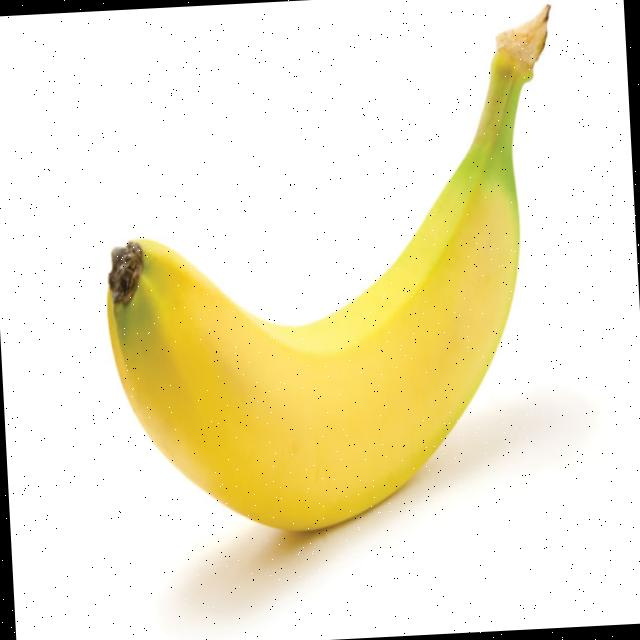Pisang: (91, 1, 578, 542)
